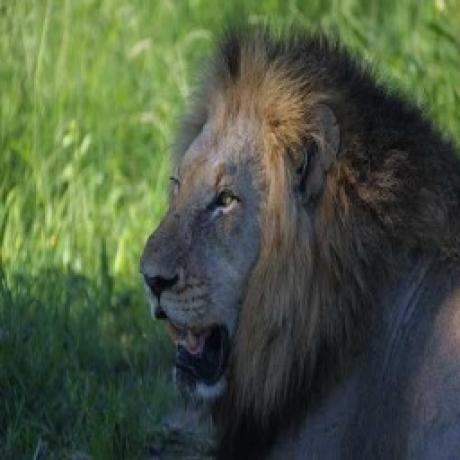Lion: (140, 21, 460, 460)
